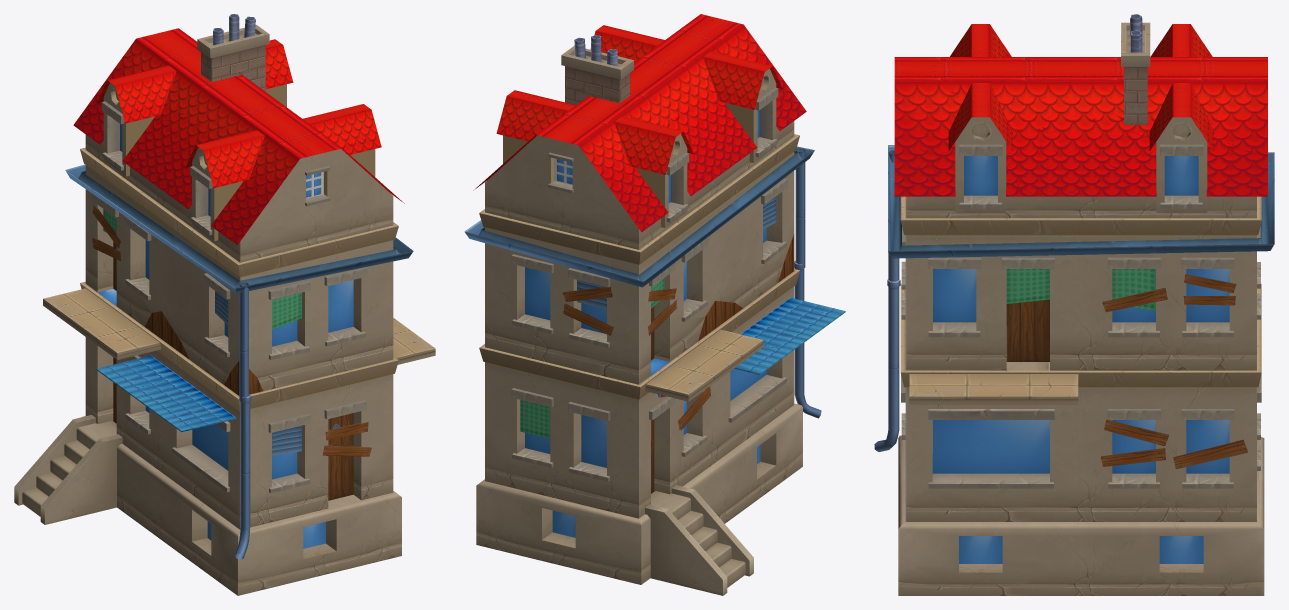
File: Building_01_4_LOD2.fbx
3 views of the same model, side by side, from view 1: azimuth 30°, elevation 25°; view 2: azimuth 150°, elevation 25°; view 3: azimuth 270°, elevation 25° (orthographic). The views are drawn at different scales.
Parts seen in each view (by area): view 1: polySurface3656; view 2: polySurface3656; view 3: polySurface3656.
Part boxes in pixels (x1,y1,x2,y2): polySurface3656: (14, 14, 435, 595); polySurface3656: (464, 14, 845, 595); polySurface3656: (874, 14, 1274, 595).
Size of the model in its own units: 719 by 1197 by 797.
